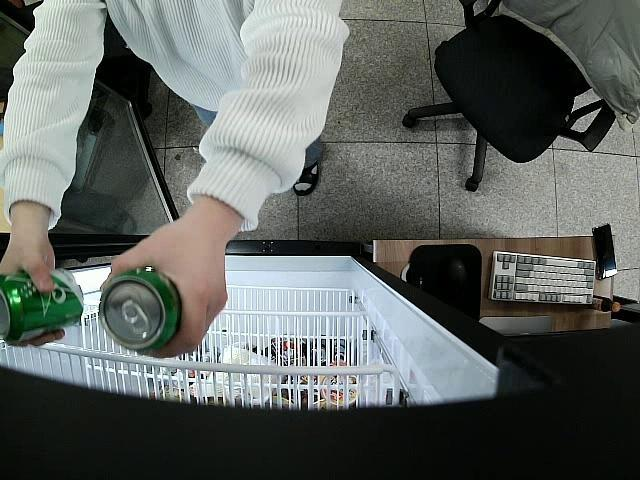12_chilsungCider: (100, 267, 180, 354), (0, 269, 85, 348)
